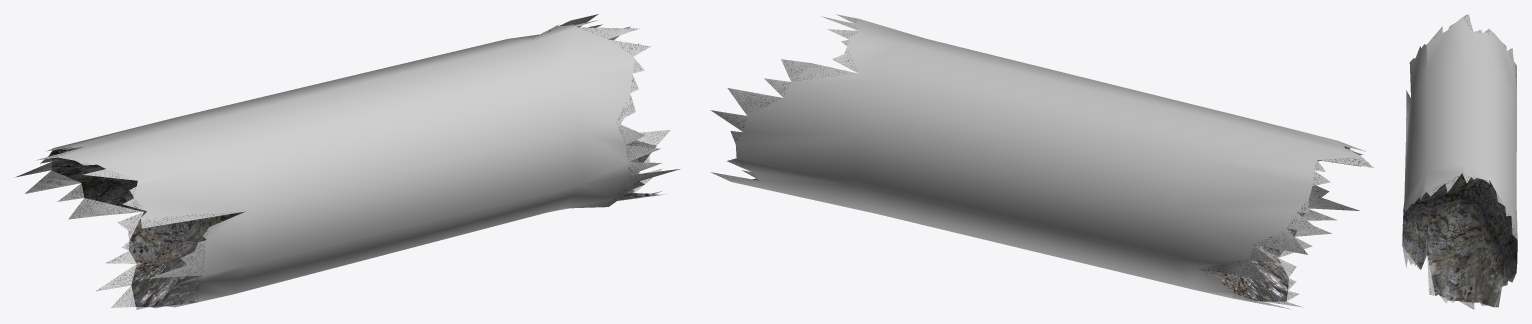
File: Trunk1_LOD.fbx
The picture shows the model from 3 angles, left to right: view 1: azimuth 30°, elevation 25°; view 2: azimuth 150°, elevation 25°; view 3: azimuth 270°, elevation 25°; orthographic projection. The views are drawn at different scales.
Visible parts, largest first — view 1: polySurface2; view 2: polySurface2; view 3: polySurface2.
Boxes of the visible parts, box(x1,y1,x2,y2) form: polySurface2: box(15, 14, 679, 309); polySurface2: box(710, 14, 1373, 309); polySurface2: box(1402, 14, 1517, 309).
Size of the model in its own units: 3.89 by 1 by 0.9458.
